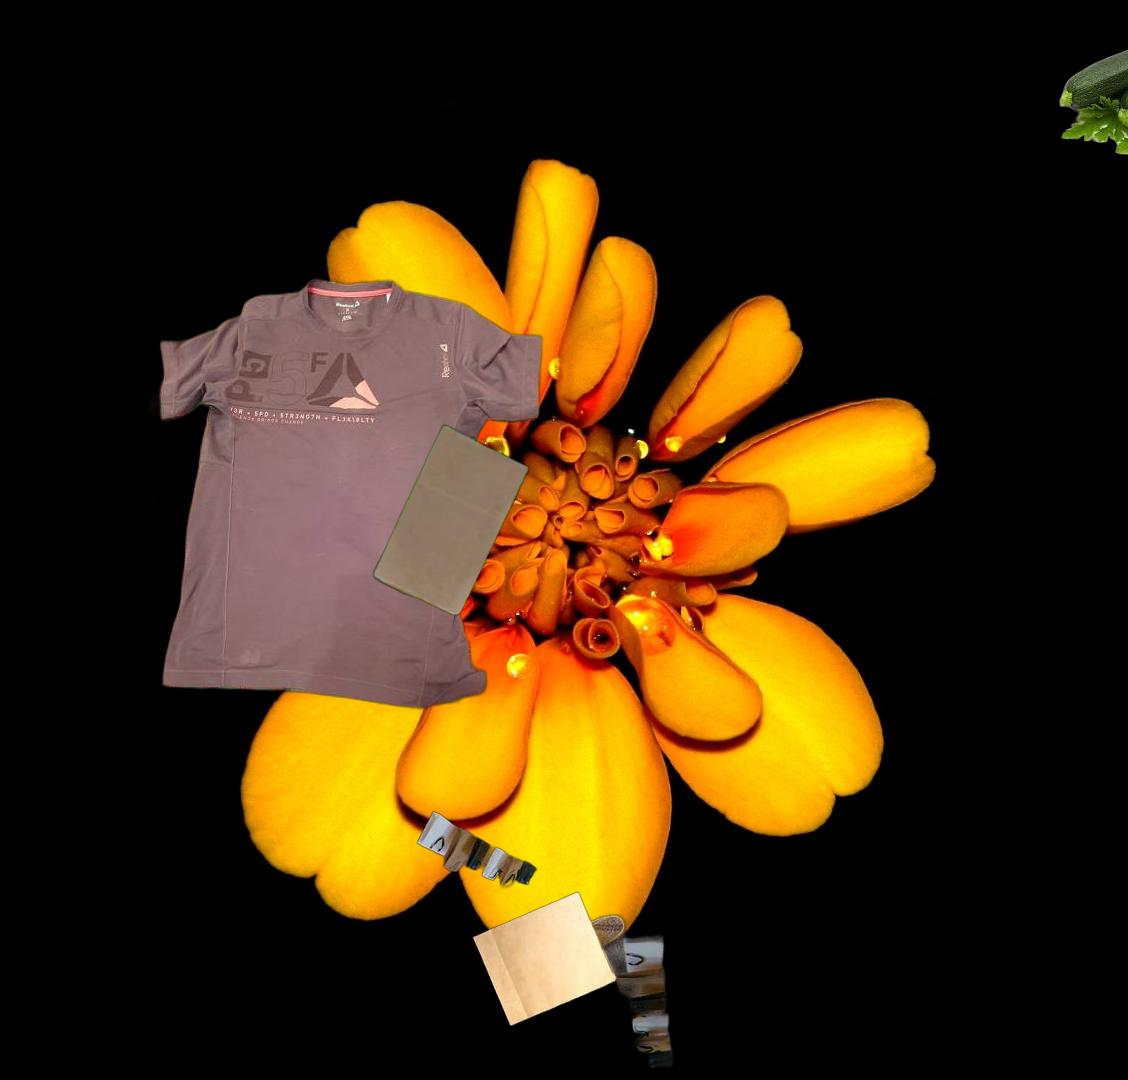biological: (1057, 29, 1128, 175)
clothes: (149, 274, 548, 714)
paper-bag: (414, 809, 676, 1080), (370, 413, 531, 618)
